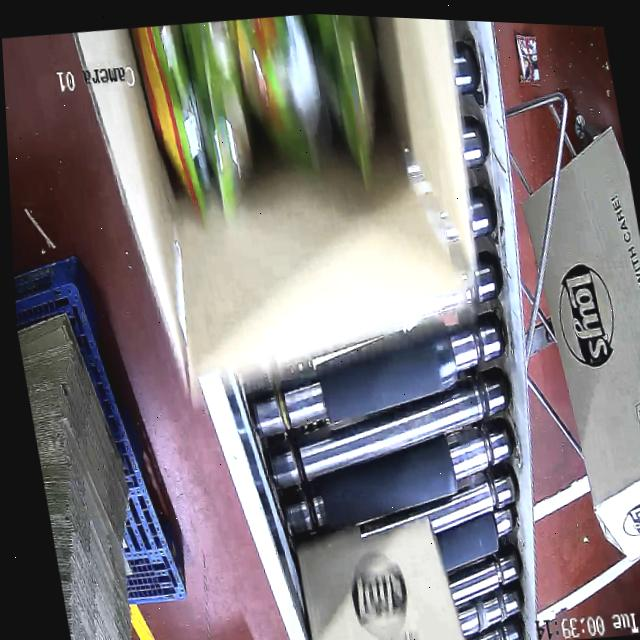YOGURT_HERB: (132, 6, 414, 201)
